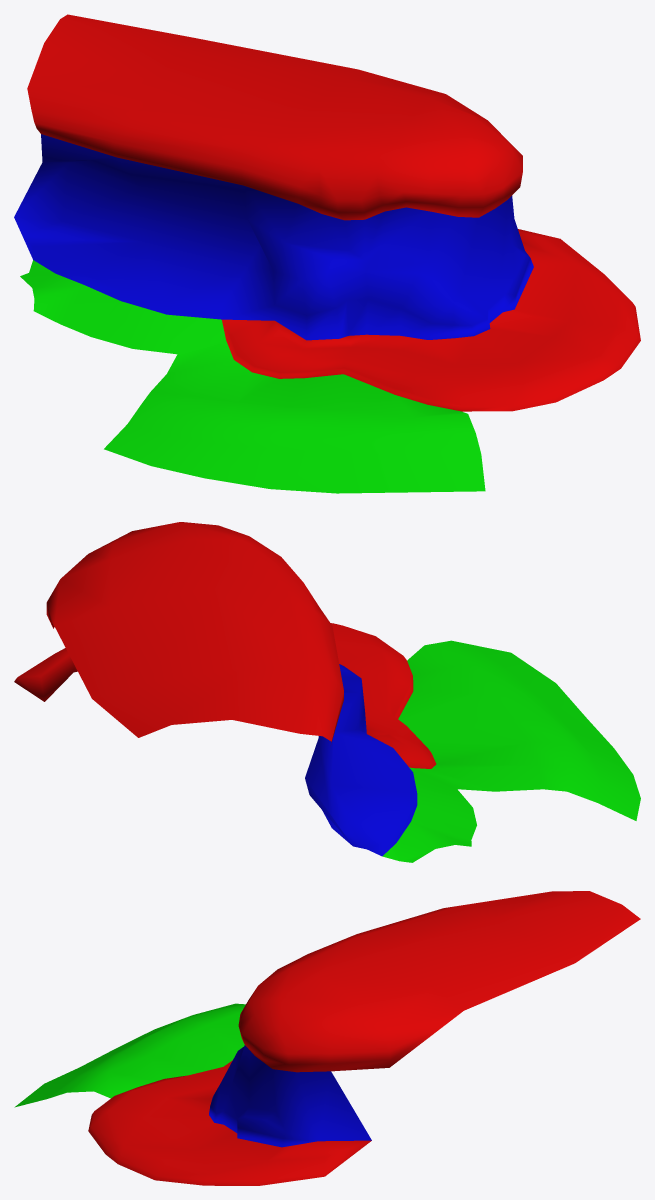
Rendered from CaveHill.glb.
The picture shows the model from 3 angles, top to bottom: view 1: azimuth 30°, elevation 25°; view 2: azimuth 150°, elevation 25°; view 3: azimuth 270°, elevation 25°; orthographic projection. The views are drawn at different scales.
Visible parts, largest first — view 1: CaveHill; view 2: CaveHill; view 3: CaveHill.
Part boxes in pixels (x1=…): CaveHill: x1=14, y1=14, x2=640, y2=493; CaveHill: x1=14, y1=522, x2=640, y2=862; CaveHill: x1=14, y1=891, x2=640, y2=1185.
Size of the model in its own units: 19.03 by 7.77 by 24.07.
